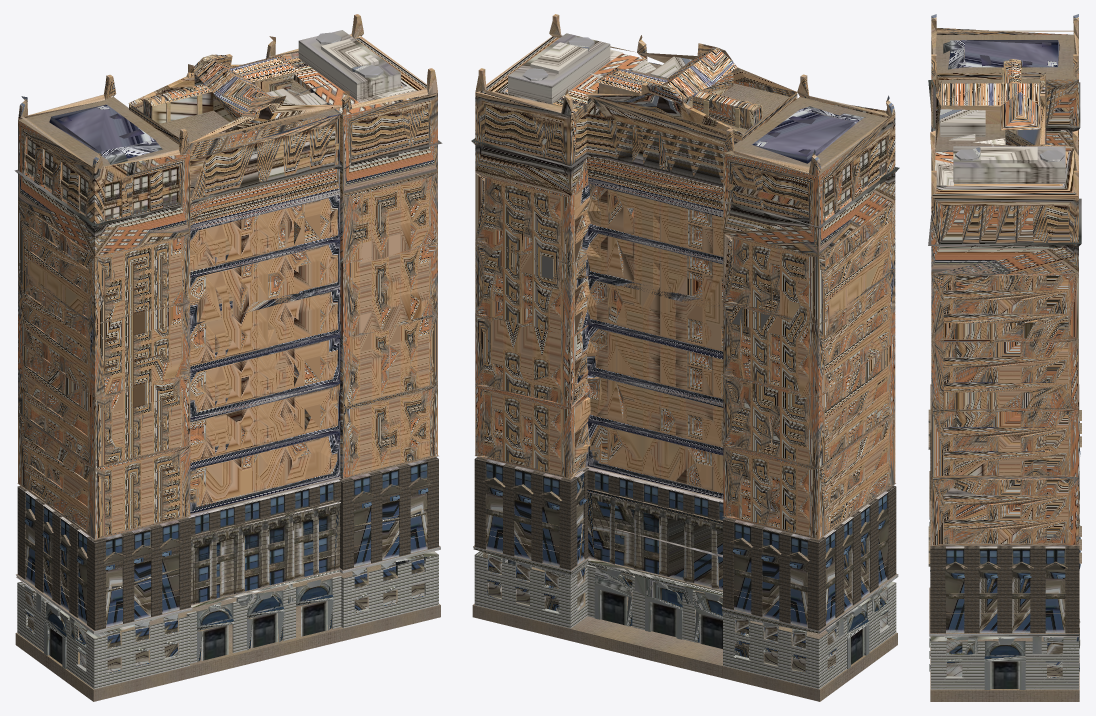
File: whitehall.glb
3 renders of one model, left to right at view 1: azimuth 30°, elevation 25°; view 2: azimuth 150°, elevation 25°; view 3: azimuth 270°, elevation 25°, orthographic. The views are drawn at different scales.
Parts seen in each view (by area): view 1: Object_5, Object_6, Object_7, Object_4, Object_8; view 2: Object_5, Object_6, Object_7, Object_4, Object_8; view 3: Object_5, Object_6, Object_4, Object_7, Object_8.
Part boxes in pixels (x1,y1,x2,y2): Object_5: (14,14,442,664); Object_6: (16,461,440,673); Object_7: (17,457,438,630); Object_4: (15,80,440,701); Object_8: (17,555,438,689); Object_5: (471,14,899,664); Object_6: (473,461,898,673); Object_7: (474,457,896,630); Object_4: (472,62,897,701); Object_8: (474,551,896,689); Object_5: (928,14,1081,688); Object_6: (928,420,1081,689); Object_4: (928,35,1081,701); Object_7: (930,429,1079,633); Object_8: (931,636,1078,689).
Bounding box in the file's own units: 60.36 × 92.52 × 23.95.
5 materials, 5 textured.
